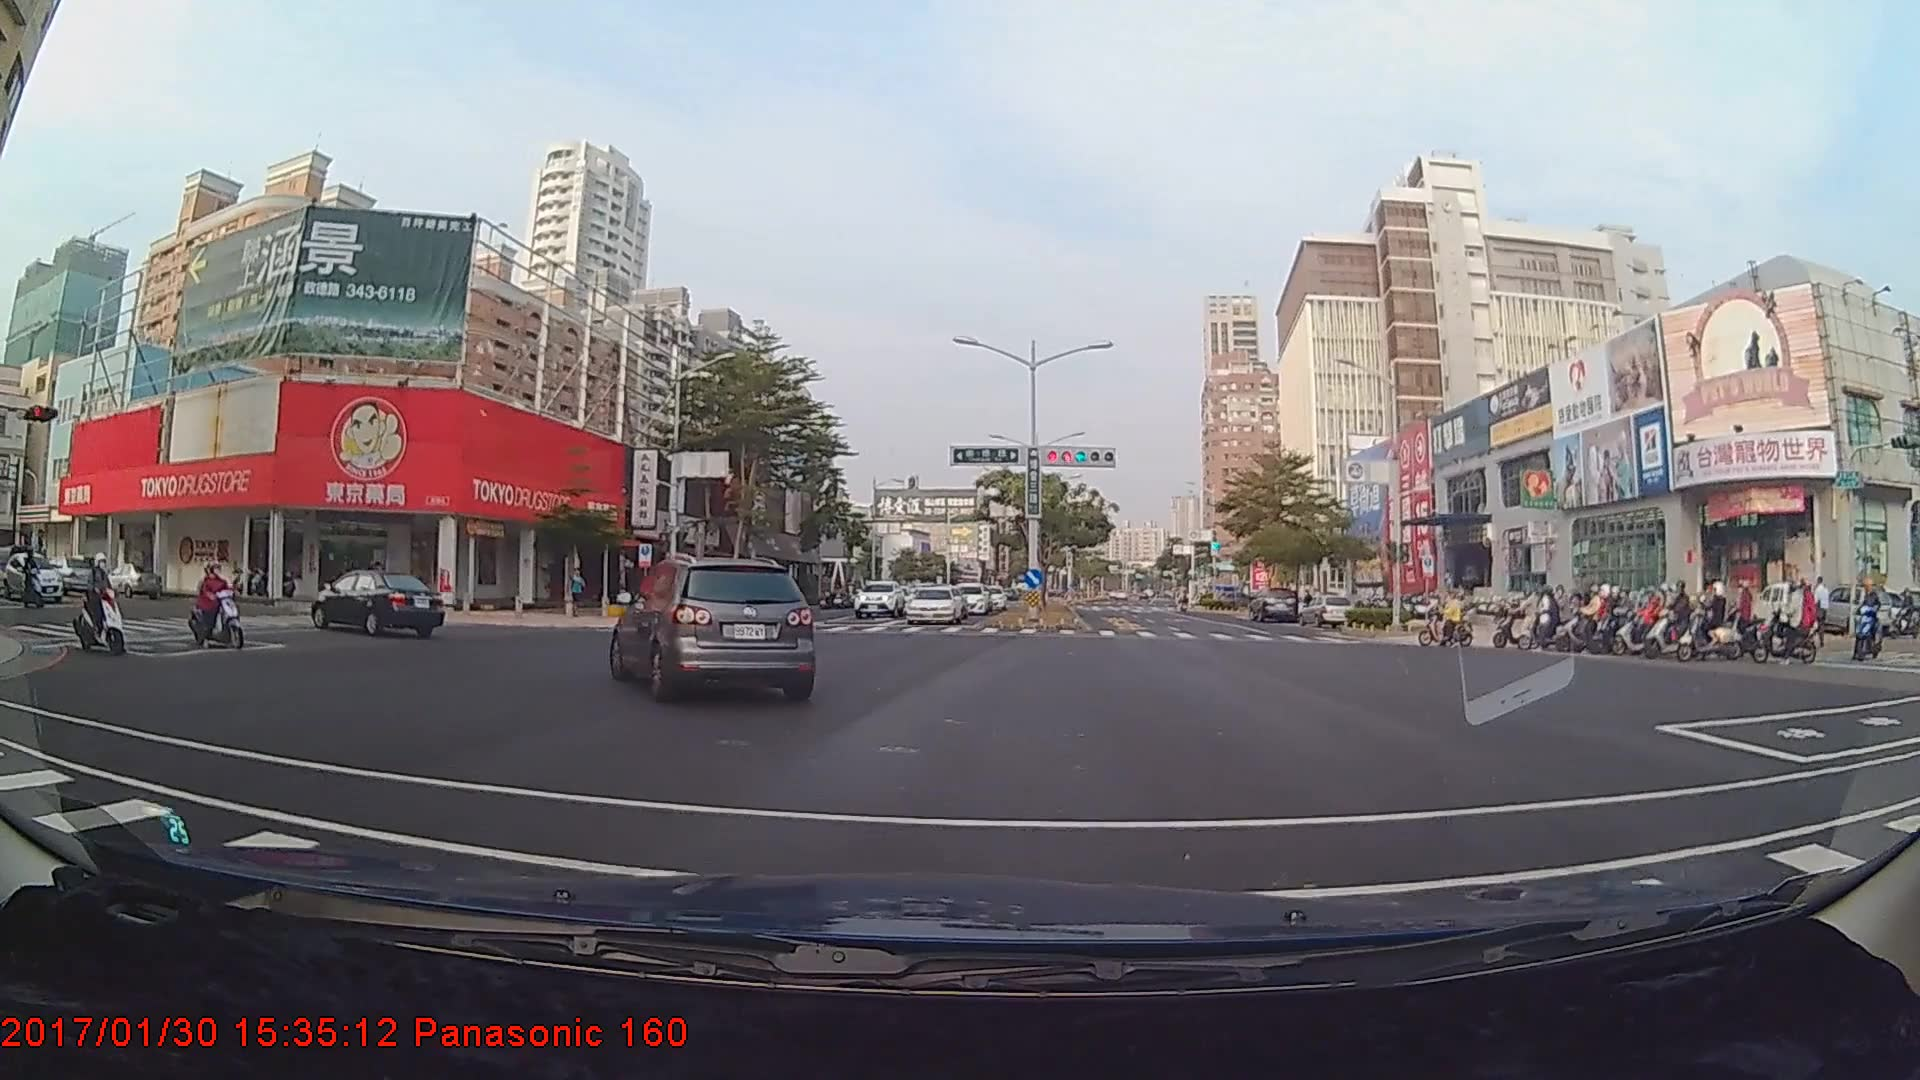rider: (71, 555, 133, 657), (1747, 578, 1816, 668), (187, 563, 249, 651), (1676, 585, 1745, 661), (1649, 585, 1712, 658), (1507, 593, 1578, 652), (1844, 590, 1893, 670), (1413, 585, 1475, 649), (1563, 586, 1618, 652), (1591, 589, 1636, 654)
vehicle: (607, 550, 816, 704), (313, 568, 447, 639), (3, 553, 64, 602), (905, 587, 966, 627), (40, 554, 101, 592), (852, 579, 907, 617), (1247, 585, 1297, 620), (949, 579, 989, 615)
